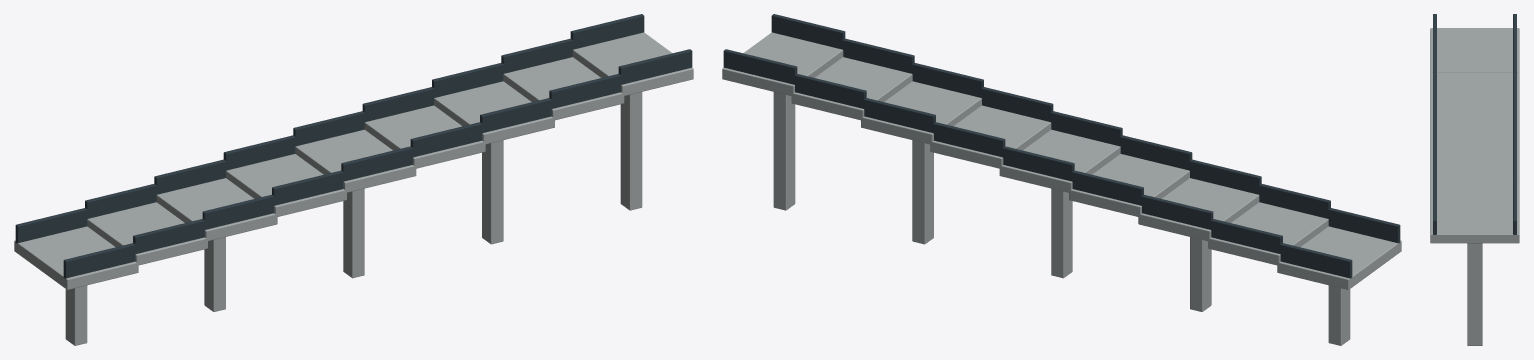
File: elevated-ramp.glb
3 renders of one model, left to right at view 1: azimuth 30°, elevation 25°; view 2: azimuth 150°, elevation 25°; view 3: azimuth 270°, elevation 25°, orthographic. The views are drawn at different scales.
Parts seen in each view (by area): view 1: DC_Mesh_DC_Concrete, DC_Mesh_DC_Steel; view 2: DC_Mesh_DC_Concrete, DC_Mesh_DC_Steel; view 3: DC_Mesh_DC_Concrete, DC_Mesh_DC_Steel.
Part boxes in pixels (bbox=[...]): DC_Mesh_DC_Concrete: bbox=[14, 32, 693, 345]; DC_Mesh_DC_Steel: bbox=[15, 14, 692, 278]; DC_Mesh_DC_Concrete: bbox=[722, 32, 1401, 345]; DC_Mesh_DC_Steel: bbox=[723, 14, 1400, 278]; DC_Mesh_DC_Concrete: bbox=[1430, 28, 1519, 345]; DC_Mesh_DC_Steel: bbox=[1433, 14, 1516, 234].
Bounding box in the file's own units: 27.1 × 6.82 × 4.
